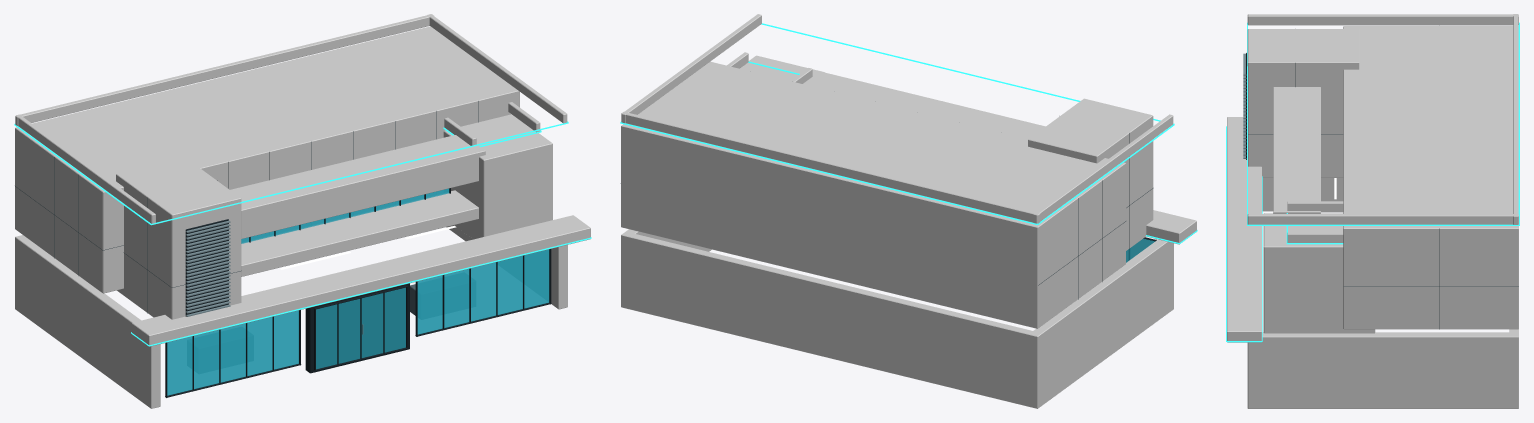
The model's file is building_03.glb.
The picture shows the model from 3 angles, left to right: view 1: azimuth 30°, elevation 25°; view 2: azimuth 150°, elevation 25°; view 3: azimuth 270°, elevation 25°; orthographic projection.
Parts seen in each view (by area): view 1: Upper rear mass, Window glazing.002, Ground level columns.002, Left feature pier, Upper lintel, Wide projecting marquee, Parapets.002, Right feature pier, Recess sill, Entrance recess.002, Vent louvers.002, Window mullions.002 (+3 smaller); view 2: Upper rear mass, Ground level rear wall.002, Ground level columns.002, Parapets.002, Left feature pier, Upper lintel, Cyan roof edges.002, Wide projecting marquee, Right feature pier; view 3: Upper rear mass, Ground level columns.002, Left feature pier, Parapets.002, Right feature pier, Wide projecting marquee, Upper lintel, Cyan roof edges.002, Ground level rear wall.002, Vent louvers.002, Facade panel seams.002.
Part boxes in pixels (bbox=[...]): Upper rear mass: bbox=[15, 26, 519, 293]; Window glazing.002: bbox=[167, 188, 549, 395]; Ground level columns.002: bbox=[15, 225, 567, 408]; Left feature pier: bbox=[116, 157, 241, 319]; Upper lintel: bbox=[230, 135, 485, 238]; Wide projecting marquee: bbox=[131, 215, 590, 346]; Parapets.002: bbox=[15, 14, 567, 223]; Right feature pier: bbox=[443, 114, 552, 239]; Recess sill: bbox=[241, 190, 478, 276]; Entrance recess.002: bbox=[305, 283, 409, 373]; Vent louvers.002: bbox=[185, 220, 230, 316]; Window mullions.002: bbox=[165, 188, 551, 397]; Upper rear mass: bbox=[621, 61, 1125, 328]; Ground level rear wall.002: bbox=[621, 232, 1042, 408]; Ground level columns.002: bbox=[621, 229, 1173, 408]; Parapets.002: bbox=[621, 14, 1173, 223]; Left feature pier: bbox=[1028, 98, 1153, 250]; Upper lintel: bbox=[803, 70, 1045, 138]; Cyan roof edges.002: bbox=[620, 23, 1197, 243]; Wide projecting marquee: bbox=[1146, 210, 1196, 244]; Right feature pier: bbox=[740, 55, 824, 80]; Upper rear mass: bbox=[1343, 26, 1518, 329]; Ground level columns.002: bbox=[1247, 178, 1518, 408]; Left feature pier: bbox=[1247, 29, 1359, 177]; Parapets.002: bbox=[1247, 14, 1518, 242]; Right feature pier: bbox=[1263, 213, 1375, 333]; Wide projecting marquee: bbox=[1227, 117, 1261, 342]; Upper lintel: bbox=[1273, 87, 1320, 213]; Cyan roof edges.002: bbox=[1226, 22, 1519, 342]; Ground level rear wall.002: bbox=[1509, 329, 1518, 408]; Vent louvers.002: bbox=[1243, 53, 1246, 158]; Facade panel seams.002: bbox=[1248, 63, 1518, 329].
Size of the model in its own units: 31.86 by 13.54 by 18.4.
